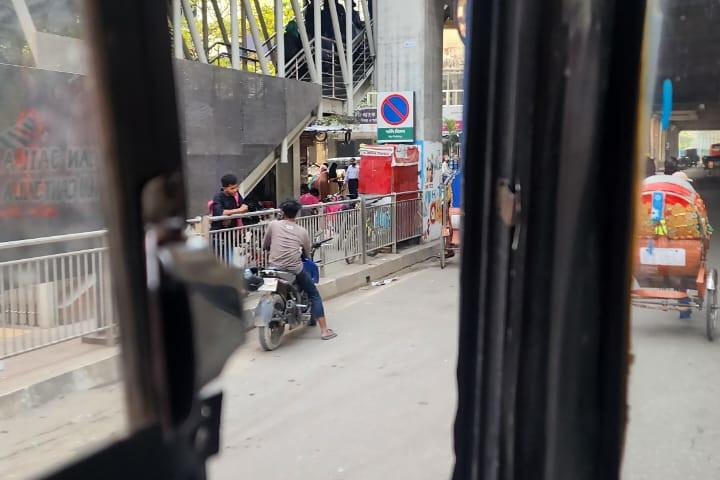No Parking: (376, 91, 415, 144)
